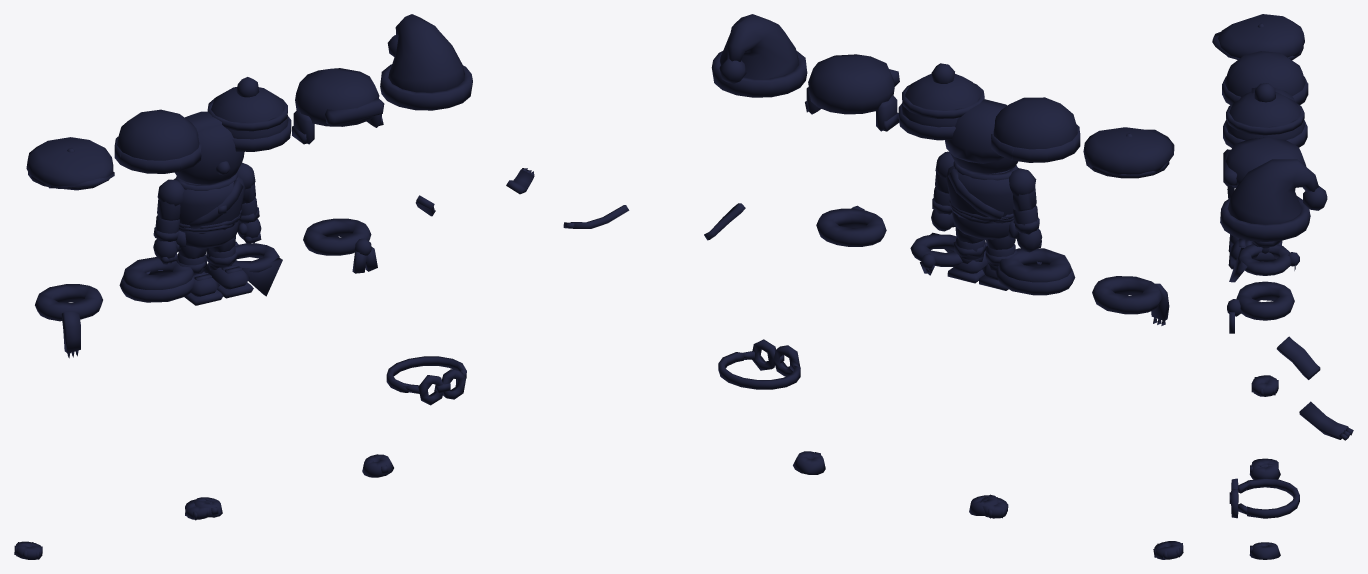
The model's file is Rookie_Outline.fbx.
3 renders of one model, left to right at view 1: azimuth 30°, elevation 25°; view 2: azimuth 150°, elevation 25°; view 3: azimuth 270°, elevation 25°, orthographic. The views are drawn at different scales.
Parts seen in each view (by area): view 1: Rookie_Cap_Santa_Outline, Rookie_Cap_Trapper_Outline, Rookie_Cap_Beanie_Outline, Rookie_Cap_Bobble_Outline, Rookie_Cap_Flat_Outline, Rookie_UpperTorso_Outline, Rookie_Head_Outline, Rookie_Scarf_Chunky_Outline, Rookie_Scarf_Long_Outline, Rookie_Scarf_Knot_Outline, Rookie_Mask_Eye_Outline, Rookie_Scarf_Bandana_Outline (+4 smaller); view 2: Rookie_Cap_Santa_Outline, Rookie_Cap_Trapper_Outline, Rookie_Cap_Beanie_Outline, Rookie_Cap_Bobble_Outline, Rookie_Cap_Flat_Outline, Rookie_UpperTorso_Outline, Rookie_Head_Outline, Rookie_Scarf_Chunky_Outline, Rookie_Scarf_Long_Outline, Rookie_Mask_Eye_Outline, Rookie_Scarf_Knot_Outline, Rookie_Scarf_Bandana_Outline (+2 smaller); view 3: Rookie_Cap_Santa_Outline, Rookie_Cap_Bobble_Outline, Rookie_Cap_Flat_Outline, Rookie_Cap_Beanie_Outline, Rookie_Cap_Trapper_Outline, Rookie_Scarf_Knot_Outline, Rookie_Mask_Eye_Outline, Rookie_Scarf_Bandana_Outline, Rookie_Scarf_Long_Tail2_Outline, Rookie_Scarf_Long_Tail1_Outline, Rookie_Gloves_Knit_Right_Outline, Rookie_LeftFoot_Outline (+2 smaller).
Part boxes in pixels (x1,y1,x2,y2): Rookie_Cap_Santa_Outline: (380, 14, 472, 110); Rookie_Cap_Trapper_Outline: (292, 68, 384, 144); Rookie_Cap_Beanie_Outline: (114, 109, 201, 173); Rookie_Cap_Bobble_Outline: (207, 77, 291, 151); Rookie_Cap_Flat_Outline: (26, 137, 114, 190); Rookie_UpperTorso_Outline: (173, 172, 245, 233); Rookie_Head_Outline: (175, 111, 244, 184); Rookie_Scarf_Chunky_Outline: (119, 257, 193, 302); Rookie_Scarf_Long_Outline: (35, 284, 102, 358); Rookie_Scarf_Knot_Outline: (303, 218, 377, 273); Rookie_Mask_Eye_Outline: (386, 356, 466, 405); Rookie_Scarf_Bandana_Outline: (231, 241, 282, 296); Rookie_Cap_Santa_Outline: (711, 14, 807, 97); Rookie_Cap_Trapper_Outline: (805, 54, 899, 131); Rookie_Cap_Beanie_Outline: (991, 97, 1080, 162); Rookie_Cap_Bobble_Outline: (898, 63, 984, 140); Rookie_Cap_Flat_Outline: (1083, 127, 1174, 178); Rookie_UpperTorso_Outline: (946, 161, 1018, 223); Rookie_Head_Outline: (945, 99, 1018, 173); Rookie_Scarf_Chunky_Outline: (995, 248, 1075, 295); Rookie_Scarf_Long_Outline: (1092, 276, 1169, 325); Rookie_Mask_Eye_Outline: (718, 339, 800, 389); Rookie_Scarf_Knot_Outline: (816, 205, 886, 246); Rookie_Scarf_Bandana_Outline: (910, 232, 962, 275); Rookie_Cap_Santa_Outline: (1220, 159, 1327, 241); Rookie_Cap_Bobble_Outline: (1223, 83, 1307, 147); Rookie_Cap_Flat_Outline: (1212, 14, 1304, 60); Rookie_Cap_Beanie_Outline: (1222, 51, 1308, 104); Rookie_Cap_Trapper_Outline: (1223, 137, 1306, 188); Rookie_Scarf_Knot_Outline: (1227, 281, 1294, 333); Rookie_Mask_Eye_Outline: (1229, 478, 1299, 518); Rookie_Scarf_Bandana_Outline: (1229, 244, 1299, 282); Rookie_Scarf_Long_Tail2_Outline: (1299, 401, 1353, 440); Rookie_Scarf_Long_Tail1_Outline: (1276, 336, 1320, 379); Rookie_Gloves_Knit_Right_Outline: (1251, 375, 1278, 396); Rookie_LeftFoot_Outline: (1228, 238, 1275, 269).
Bounding box in the file's own units: 16.29 × 12.03 × 3.69.
Materials: 1 (1 with a texture image).
